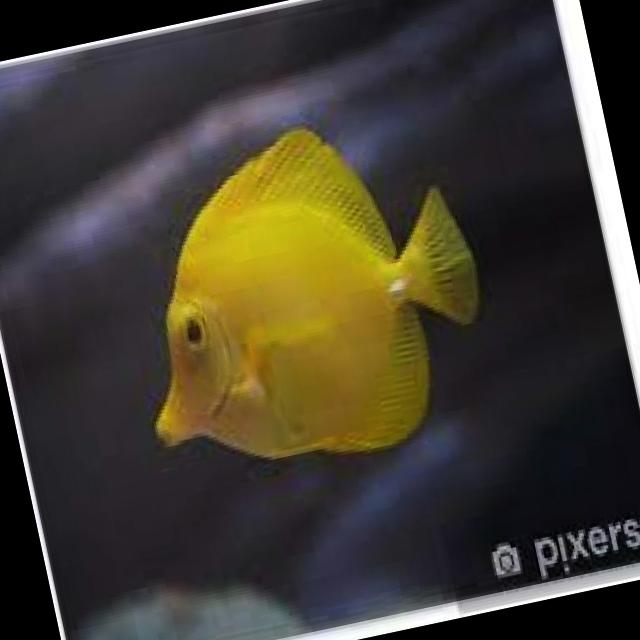TangFish: (100, 90, 509, 498)
